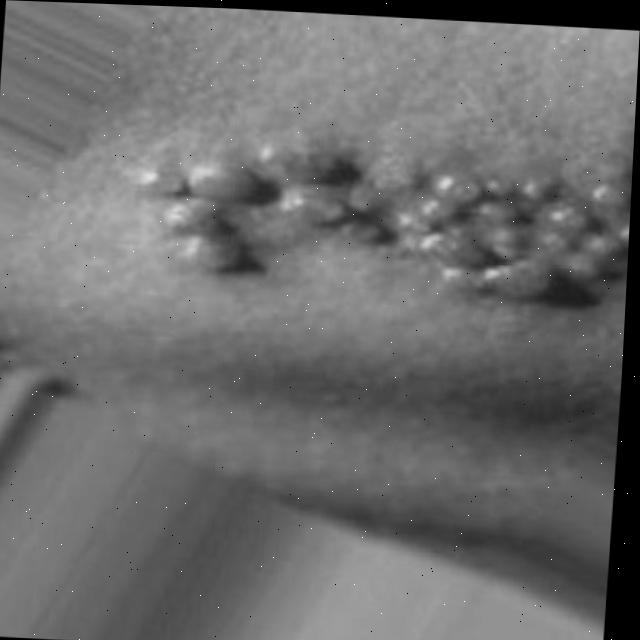Shingles: (138, 131, 634, 296)
